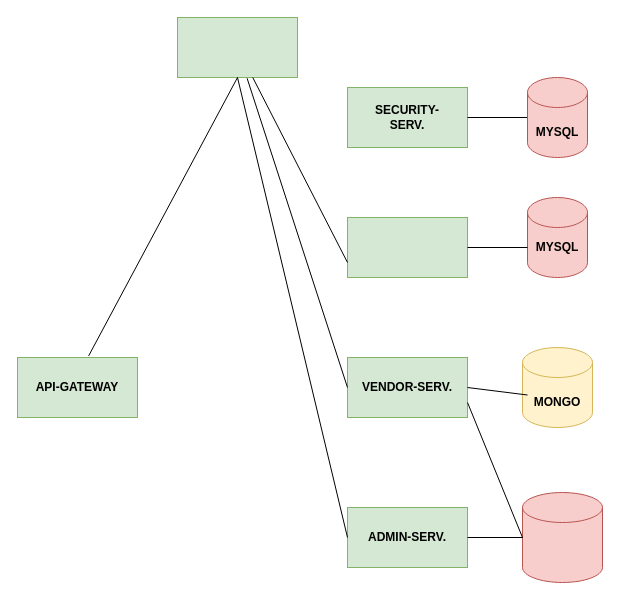
Image size: 620x600. Some labels were removed from this diagram. Each missing label, with the box of its shape:
CONSUL: (176, 16, 298, 78)
CUSTOMER-SERV.: (346, 216, 468, 278)
POSTGRES: (522, 492, 602, 582)
